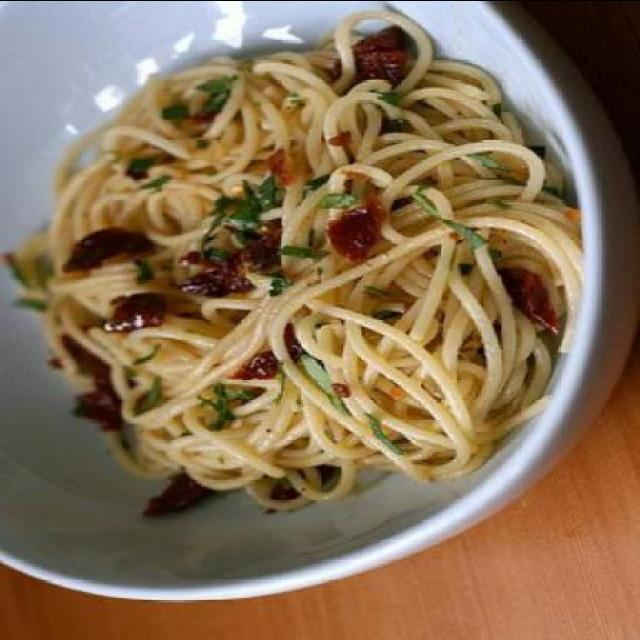Oil pasta: (14, 27, 557, 498)
